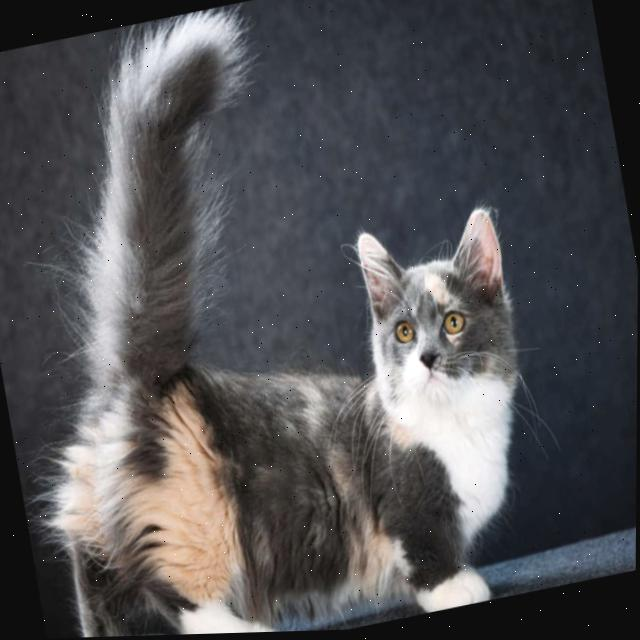Munchkin: (0, 0, 568, 640)
